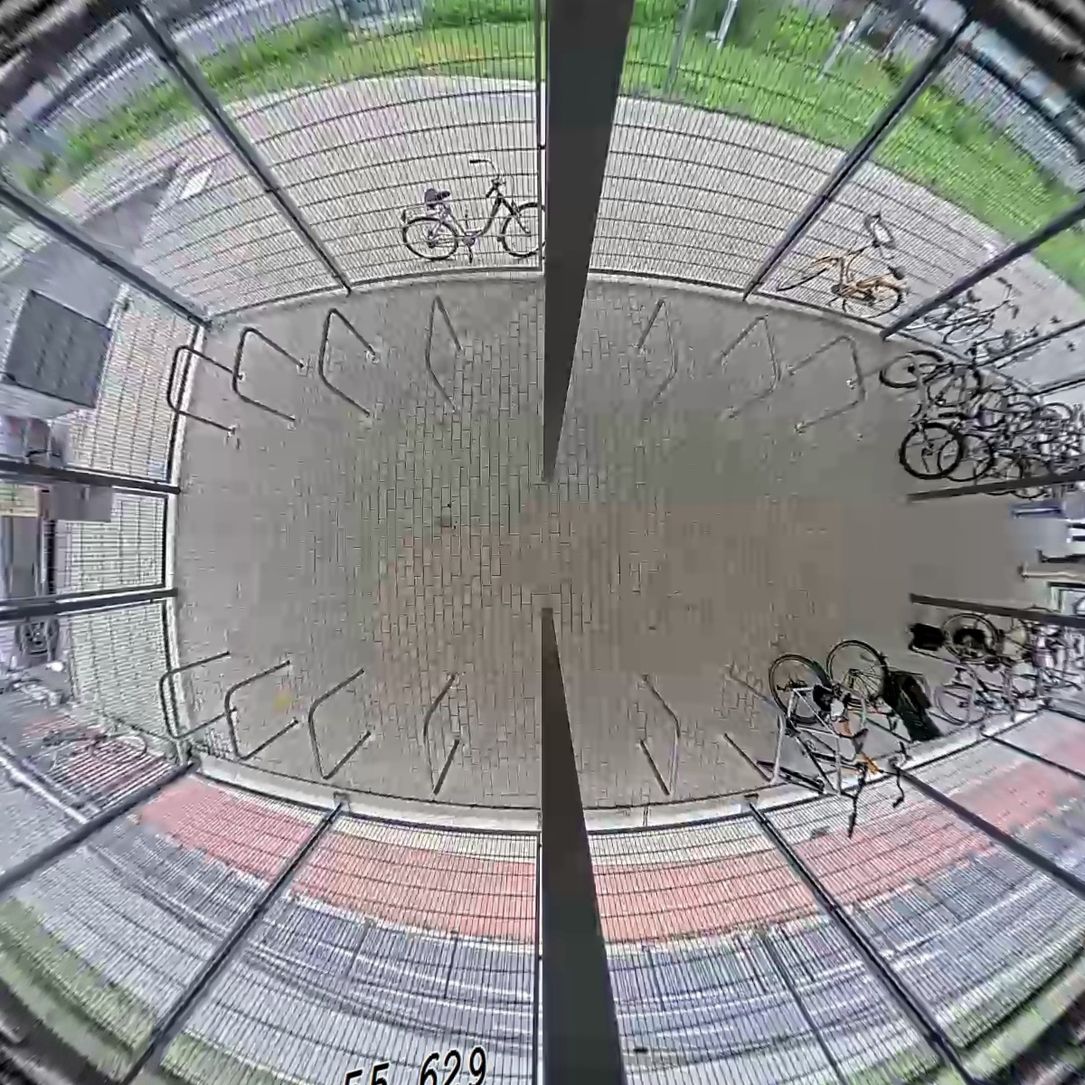bicylce: (874, 341, 986, 480), (931, 604, 1037, 731), (925, 353, 1021, 485), (759, 653, 843, 798), (821, 637, 896, 779), (998, 603, 1079, 722), (967, 602, 1043, 726), (957, 382, 1030, 488), (990, 389, 1057, 495)
saddle: (844, 722, 875, 757), (880, 710, 904, 737), (970, 402, 990, 431), (1039, 633, 1063, 656), (1026, 641, 1041, 670), (1070, 633, 1085, 661), (998, 421, 1015, 444), (1042, 456, 1056, 476), (1058, 451, 1075, 463)
